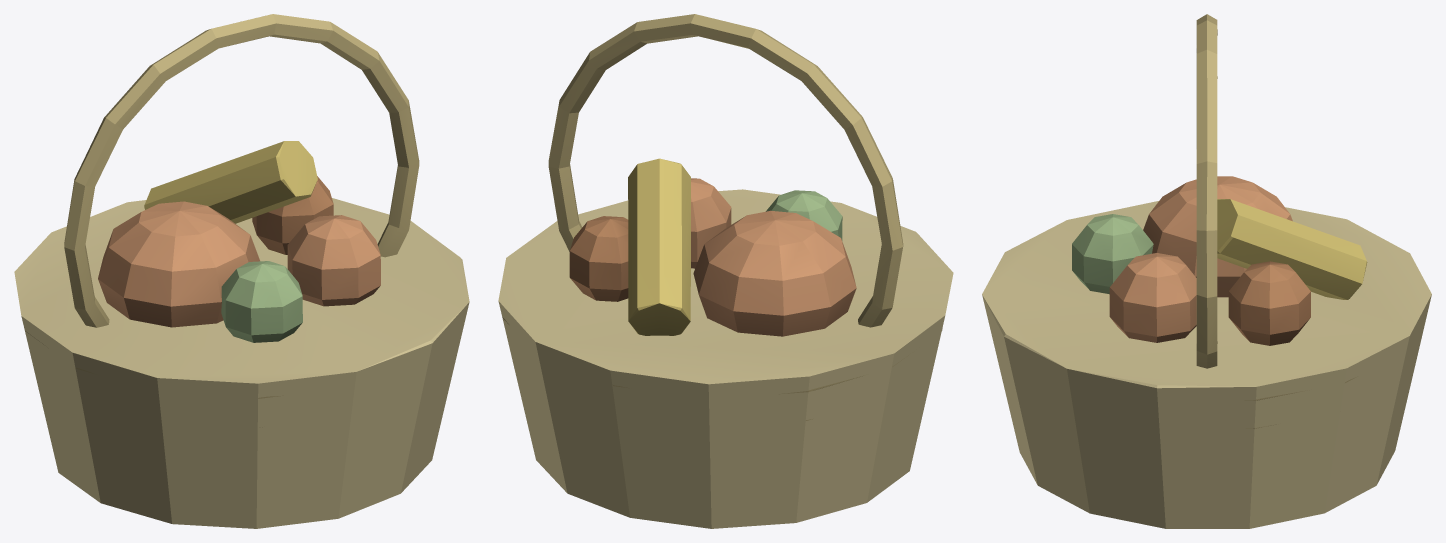
File: harvest_basket_low.glb
3 views of the same model, side by side, from view 1: azimuth 30°, elevation 25°; view 2: azimuth 150°, elevation 25°; view 3: azimuth 270°, elevation 25° (orthographic). The views are drawn at different scales.
Bounding box in the file's own units: 0.6996 × 0.7335 × 0.7168.
